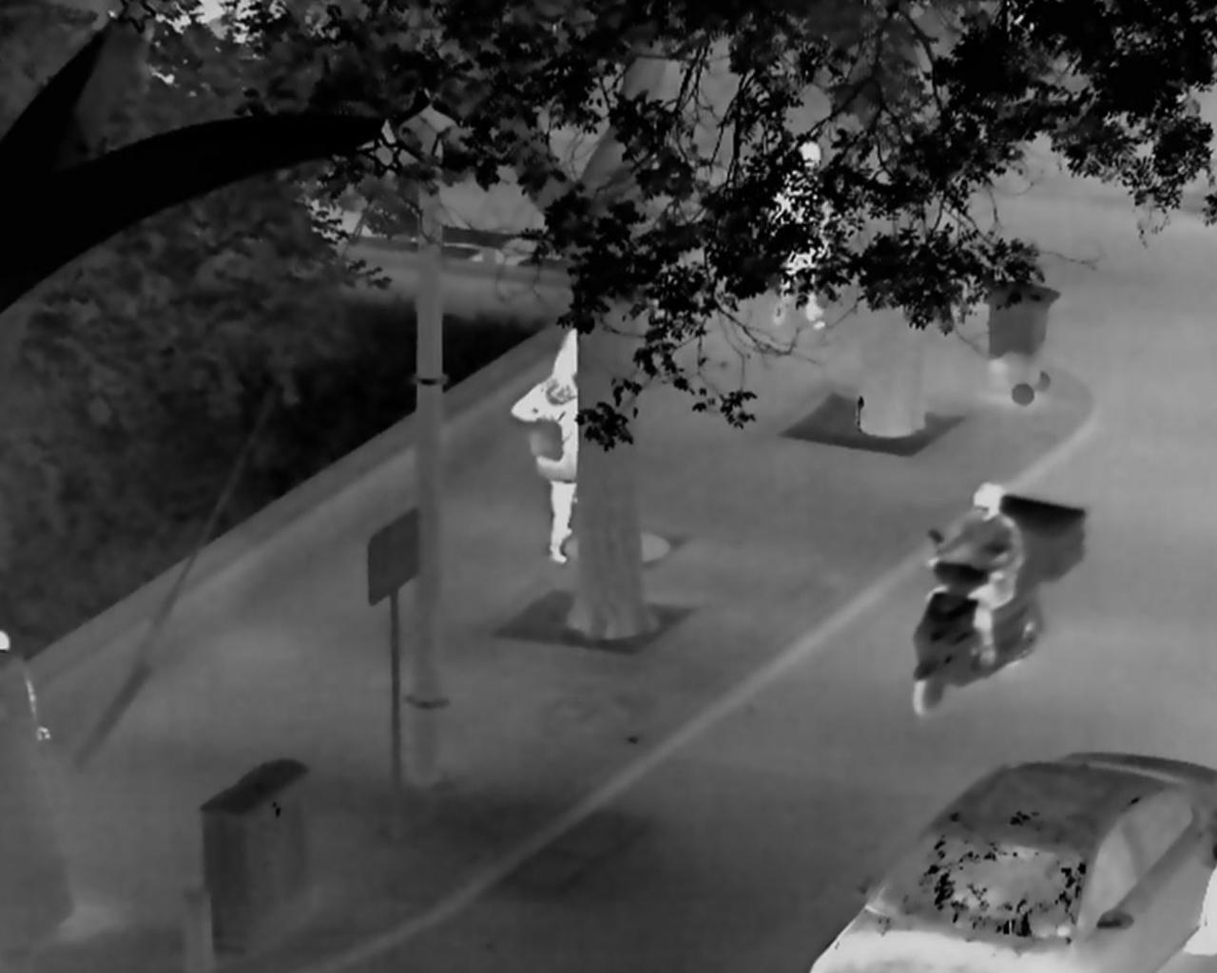person: (926, 479, 1026, 667), (509, 345, 579, 563), (764, 138, 831, 330)
